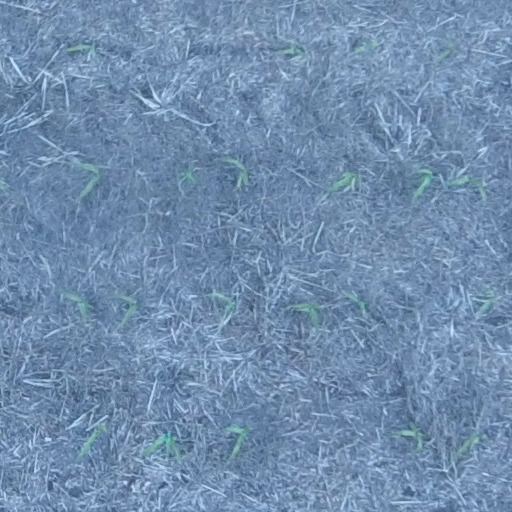planta: (448, 175, 487, 201), (143, 432, 182, 458), (78, 423, 104, 459), (78, 160, 101, 200), (410, 168, 436, 203), (223, 424, 251, 456), (61, 289, 91, 318), (396, 425, 423, 455), (210, 291, 235, 323), (223, 157, 248, 187), (454, 432, 482, 458), (294, 301, 319, 328), (274, 44, 310, 61), (329, 171, 359, 191), (122, 299, 139, 323), (349, 293, 366, 316), (68, 42, 95, 53)
